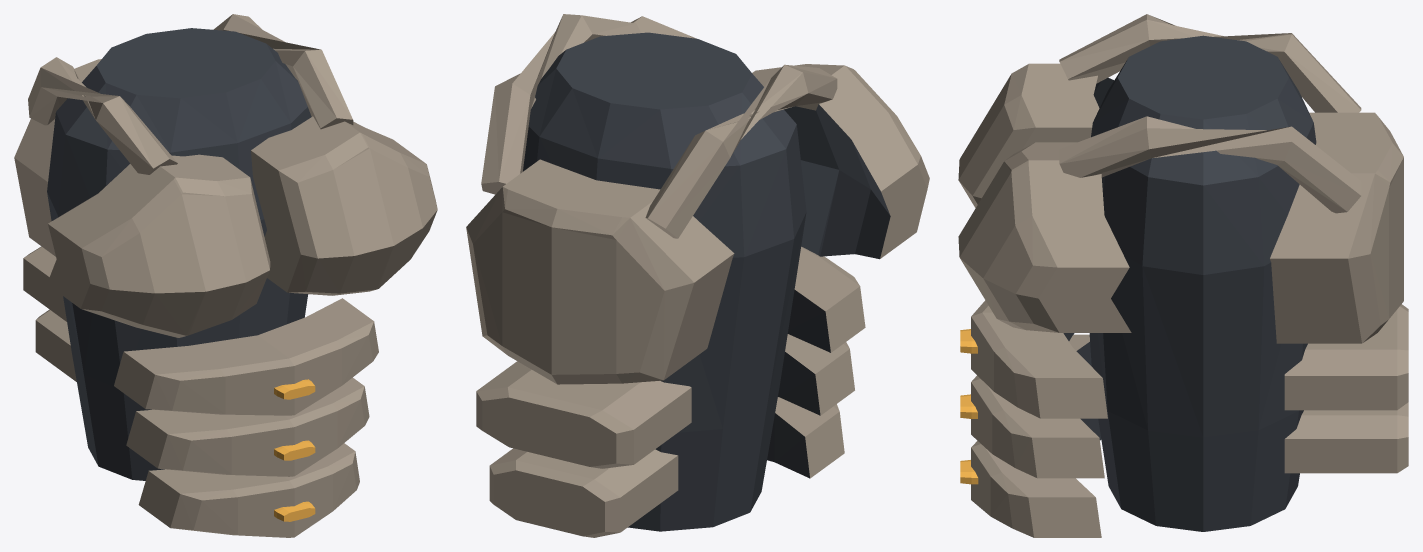
Rendered from torso_medium.glb.
The picture shows the model from 3 angles, left to right: view 1: azimuth 30°, elevation 25°; view 2: azimuth 150°, elevation 25°; view 3: azimuth 270°, elevation 25°; orthographic projection. The views are drawn at different scales.
Visible parts, largest first — view 1: torso_medium; view 2: torso_medium; view 3: torso_medium.
Part boxes in pixels (x1,y1,x2,y2): torso_medium: (14, 14, 437, 537); torso_medium: (466, 14, 929, 537); torso_medium: (958, 14, 1408, 537).
Bounding box in the file's own units: 0.946 × 1.07 × 0.998.
